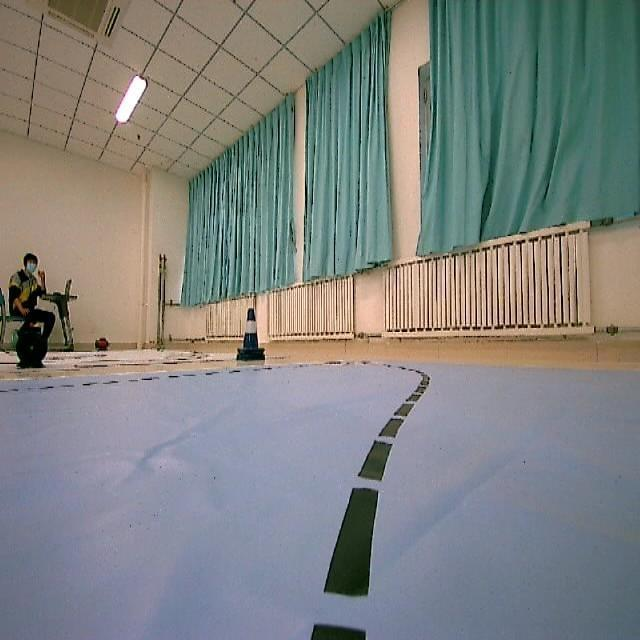obstacle: (234, 304, 266, 366)
